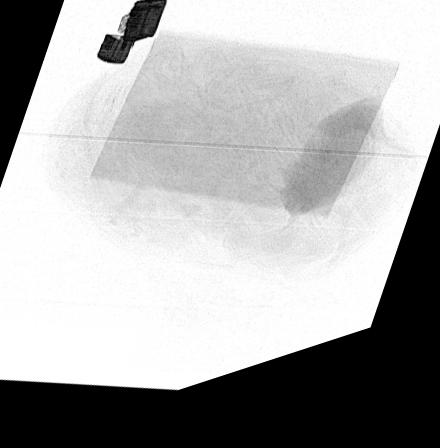Lighter: (95, 6, 166, 71)
